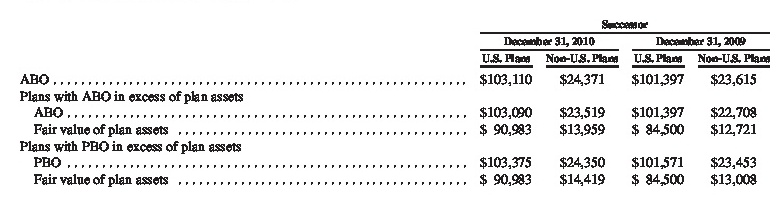table: (0, 0, 784, 209)
